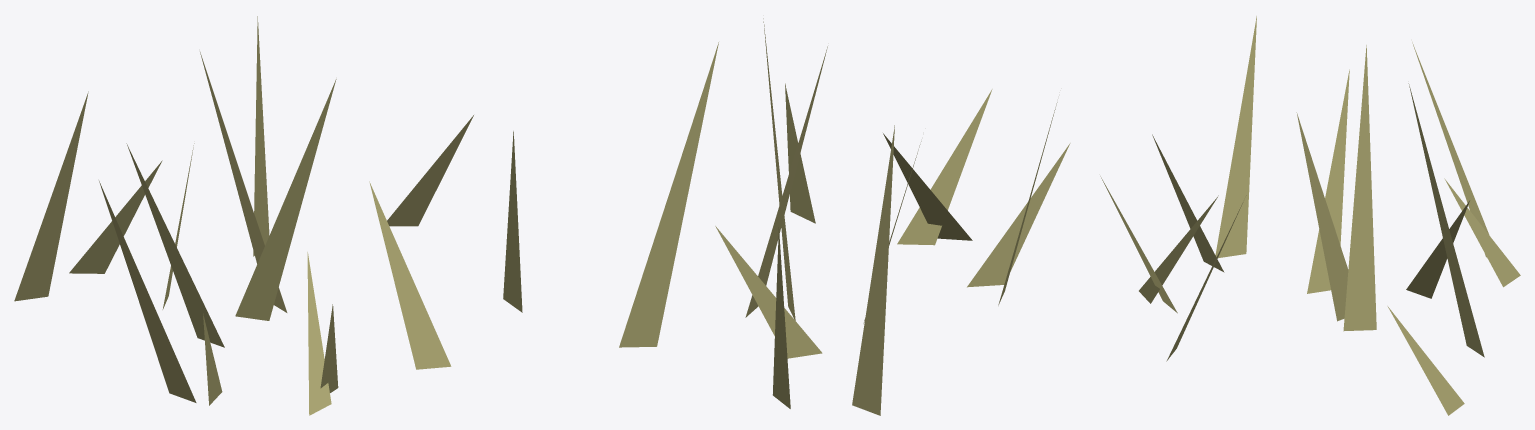
The model's file is Dry_Grass.glb.
3 renders of one model, left to right at view 1: azimuth 30°, elevation 25°; view 2: azimuth 150°, elevation 25°; view 3: azimuth 270°, elevation 25°, orthographic. The views are drawn at different scales.
Visible parts, largest first — view 1: Dry_Grass; view 2: Dry_Grass; view 3: Dry_Grass.
Boxes of the visible parts, box(x1,y1,x2,y2) form: Dry_Grass: box(14, 16, 473, 415); Dry_Grass: box(503, 18, 1070, 415); Dry_Grass: box(1100, 16, 1520, 415).
Bounding box in the file's own units: 0.716 × 0.4197 × 0.6314.
